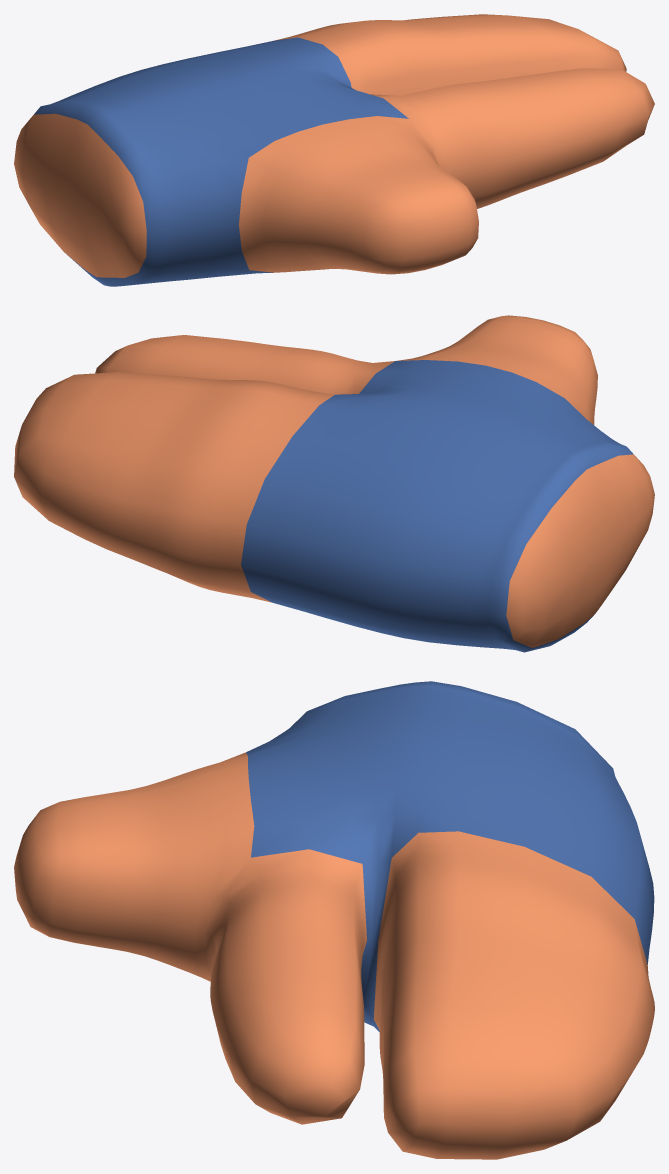
File: hand jacked.fbx
The picture shows the model from 3 angles, top to bottom: view 1: azimuth 30°, elevation 25°; view 2: azimuth 150°, elevation 25°; view 3: azimuth 270°, elevation 25°; orthographic projection. The views are drawn at different scales.
Parts seen in each view (by area): view 1: _hand; view 2: _hand; view 3: _hand.
Part boxes in pixels (x1=…): _hand: x1=14, y1=14, x2=654, y2=286; _hand: x1=14, y1=315, x2=654, y2=652; _hand: x1=14, y1=681, x2=654, y2=1159.
Bounding box in the file's own units: 46.06 × 14.83 × 35.63.
